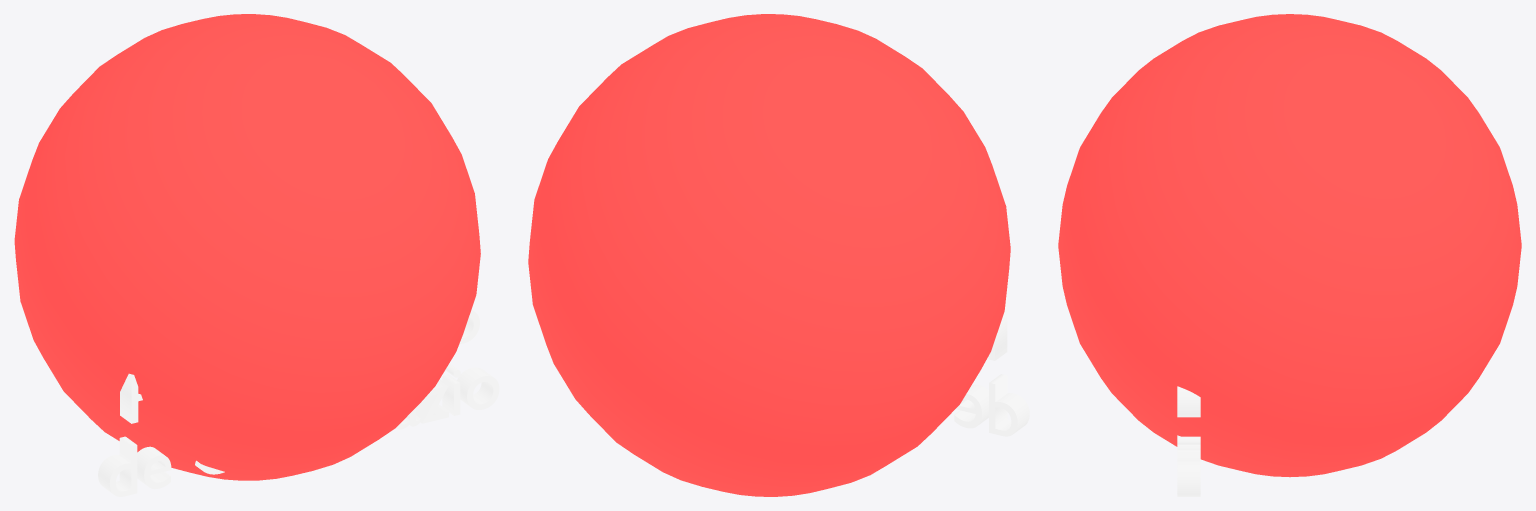
File: reservatorio-de-oleo-vazio.glb
3 renders of one model, left to right at view 1: azimuth 30°, elevation 25°; view 2: azimuth 150°, elevation 25°; view 3: azimuth 270°, elevation 25°, orthographic. The views are drawn at different scales.
Visible parts, largest first — view 1: Sphere.029, Text.030; view 2: Sphere.029, Text.030; view 3: Sphere.029, Text.030.
Boxes of the visible parts, x1,y1,x2,y2 form: Sphere.029: [14, 14, 480, 480]; Text.030: [98, 309, 499, 496]; Sphere.029: [528, 14, 1010, 496]; Text.030: [954, 302, 1029, 436]; Sphere.029: [1058, 14, 1521, 477]; Text.030: [1177, 386, 1200, 496].
Bounding box in the file's own units: 5.15 × 5.15 × 5.15.
